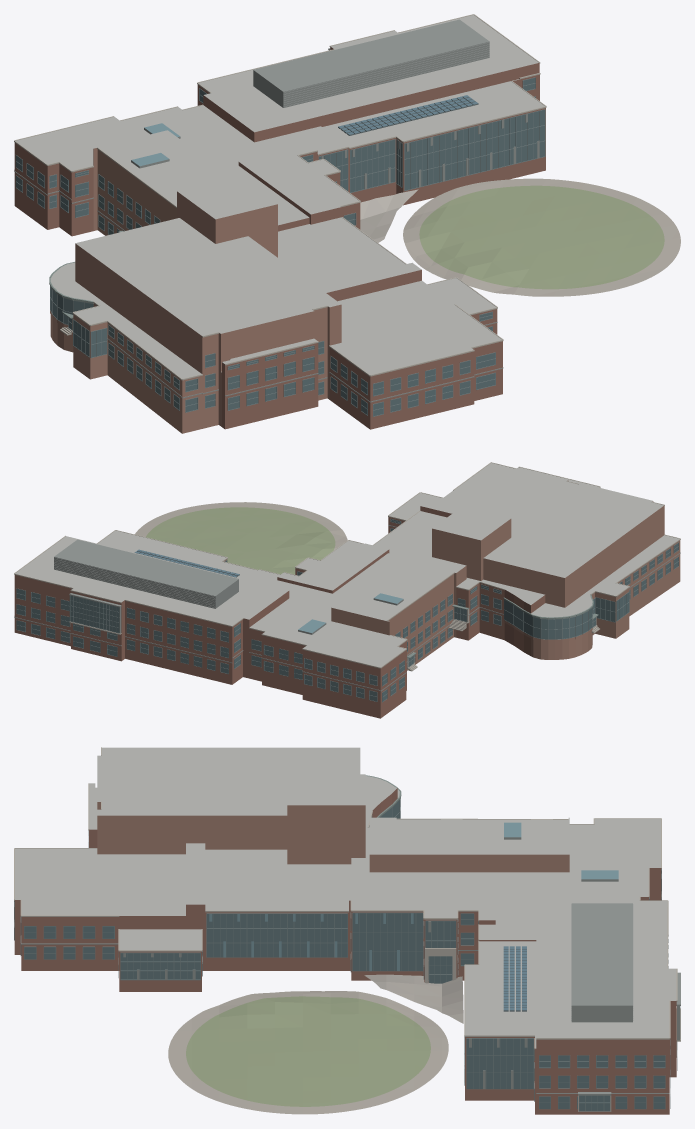
Rendered from site.glb.
The picture shows the model from 3 angles, top to bottom: view 1: azimuth 30°, elevation 25°; view 2: azimuth 150°, elevation 25°; view 3: azimuth 270°, elevation 25°; orthographic projection. The views are drawn at different scales.
Visible parts, largest first — view 1: roof-266f13fd, emu-green-paving; view 2: roof-266f13fd, emu-green-paving; view 3: roof-266f13fd, emu-green-paving.
Boxes of the visible parts, left/top/right/bottom form: roof-266f13fd: left=14, top=14, right=546, bottom=433; emu-green-paving: left=360, top=178, right=680, bottom=296; roof-266f13fd: left=14, top=462, right=680, bottom=718; emu-green-paving: left=134, top=502, right=347, bottom=574; roof-266f13fd: left=14, top=747, right=680, bottom=1114; emu-green-paving: left=168, top=974, right=463, bottom=1114.
Size of the model in its own units: 126 by 23.59 by 120.
